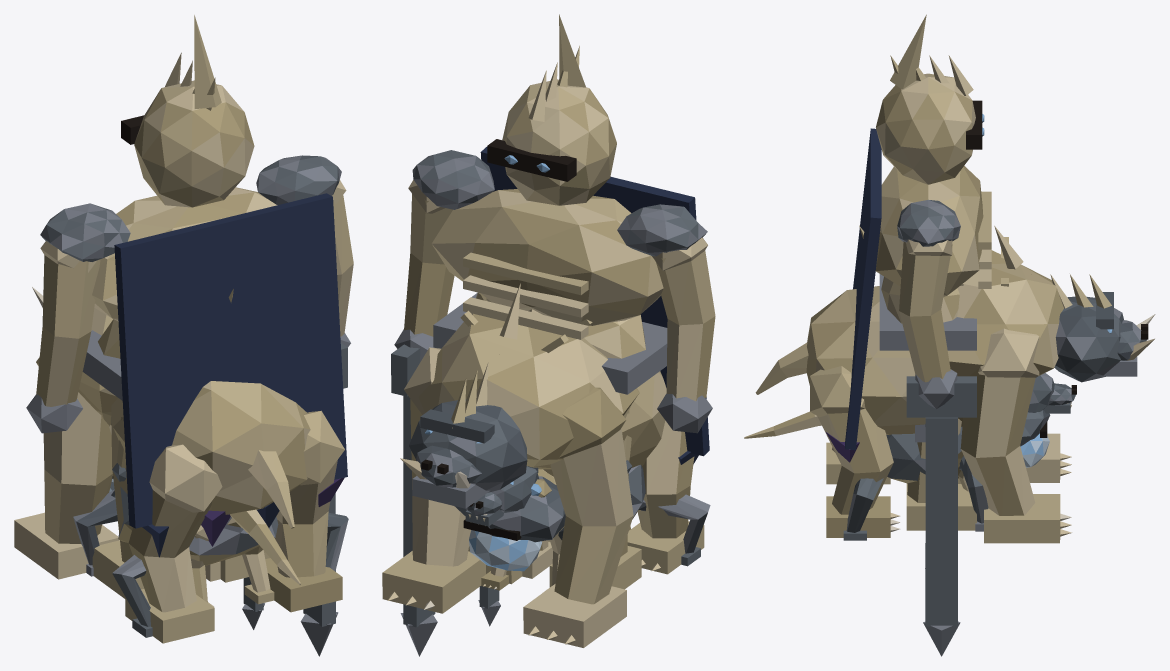
Rendered from foes-crypt.glb.
3 renders of one model, left to right at view 1: azimuth 30°, elevation 25°; view 2: azimuth 150°, elevation 25°; view 3: azimuth 270°, elevation 25°, orthographic. The views are drawn at different scales.
Parts seen in each view (by area): view 1: fo_crypt_boss_cloak, fo_crypt_boss_body, fo_crypt_boss_head, fo_crypt_brute_body, fo_crypt_brute_legBL, fo_crypt_brute_legFL, fo_crypt_boss_armL, fo_crypt_brute_legBR, fo_crypt_boss_armR, fo_crypt_boss_legL, fo_crypt_spitter_body, fo_crypt_brute_tail (+8 smaller); view 2: fo_crypt_boss_body, fo_crypt_brute_body, fo_crypt_brute_legFL, fo_crypt_boss_head, fo_crypt_brute_head, fo_crypt_boss_armR, fo_crypt_brute_legFR, fo_crypt_boss_armL, fo_crypt_brute_legBL, fo_crypt_boss_cloak, fo_crypt_spitter_head, fo_crypt_spitter_sacGlow (+8 smaller); view 3: fo_crypt_boss_armR, fo_crypt_brute_body, fo_crypt_boss_body, fo_crypt_brute_legFR, fo_crypt_boss_head, fo_crypt_brute_legBR, fo_crypt_brute_head, fo_crypt_boss_cloak, fo_crypt_boss_legR, fo_crypt_spitter_body, fo_crypt_spitter_legBR, fo_crypt_brute_legFL (+6 smaller).
Part boxes in pixels (x1,y1,x2,y2): fo_crypt_boss_cloak: (114, 193, 347, 557); fo_crypt_boss_body: (40, 155, 341, 400); fo_crypt_boss_head: (121, 15, 254, 207); fo_crypt_brute_body: (78, 289, 310, 514); fo_crypt_brute_legBL: (125, 444, 222, 643); fo_crypt_brute_legFL: (14, 357, 119, 579); fo_crypt_boss_armL: (26, 241, 100, 433); fo_crypt_brute_legBR: (265, 410, 344, 612); fo_crypt_boss_armR: (300, 180, 353, 656); fo_crypt_boss_legL: (92, 398, 144, 598); fo_crypt_spitter_body: (118, 487, 278, 565); fo_crypt_brute_tail: (248, 450, 294, 528); fo_crypt_boss_body: (412, 150, 707, 394); fo_crypt_brute_body: (418, 283, 666, 476); fo_crypt_brute_legFL: (523, 387, 633, 647); fo_crypt_boss_head: (487, 14, 616, 205); fo_crypt_brute_head: (400, 354, 527, 492); fo_crypt_boss_armR: (391, 180, 454, 656); fo_crypt_brute_legFR: (382, 347, 485, 613); fo_crypt_boss_armL: (652, 237, 715, 433); fo_crypt_brute_legBL: (627, 420, 704, 574); fo_crypt_boss_cloak: (480, 147, 709, 464); fo_crypt_spitter_head: (454, 476, 565, 542); fo_crypt_spitter_sacGlow: (469, 530, 542, 571); fo_crypt_boss_armR: (899, 239, 976, 656); fo_crypt_brute_body: (806, 225, 1063, 434); fo_crypt_boss_body: (875, 165, 991, 350); fo_crypt_brute_legFR: (960, 328, 1071, 543); fo_crypt_boss_head: (876, 14, 982, 184); fo_crypt_brute_legBR: (810, 366, 900, 537); fo_crypt_brute_head: (1031, 274, 1155, 382); fo_crypt_boss_cloak: (826, 128, 881, 462); fo_crypt_boss_legR: (906, 418, 976, 530); fo_crypt_spitter_body: (886, 427, 963, 483); fo_crypt_spitter_legBR: (843, 478, 883, 540); fo_crypt_brute_legFL: (1026, 433, 1071, 482).
Size of the model in its own units: 1.71 by 3.59 by 2.28.
